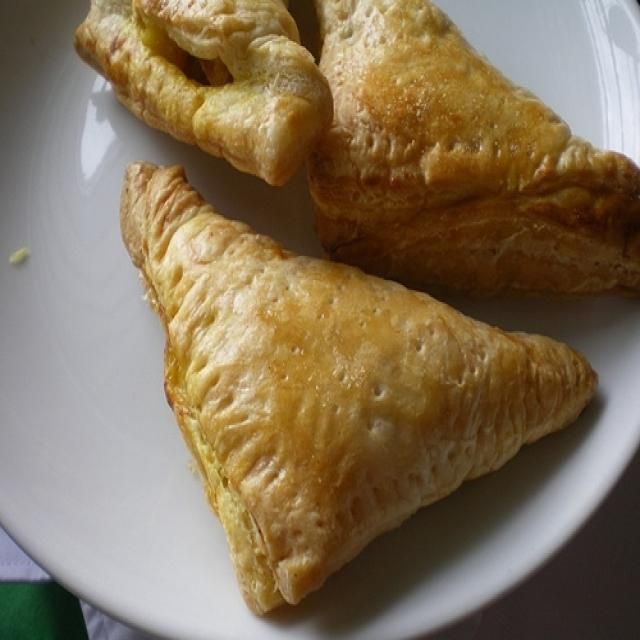炸货点心: (51, 2, 630, 599)
